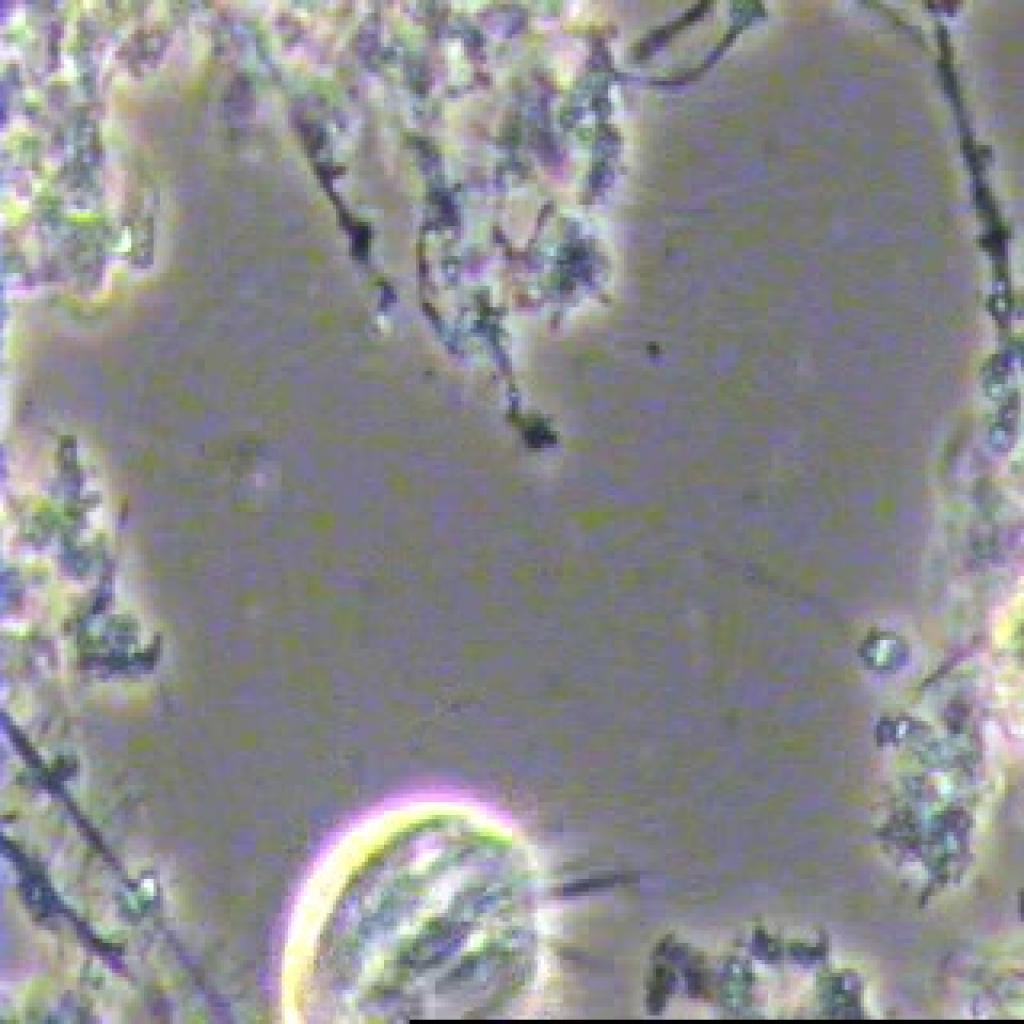Aspidisca: (245, 787, 648, 1022)
